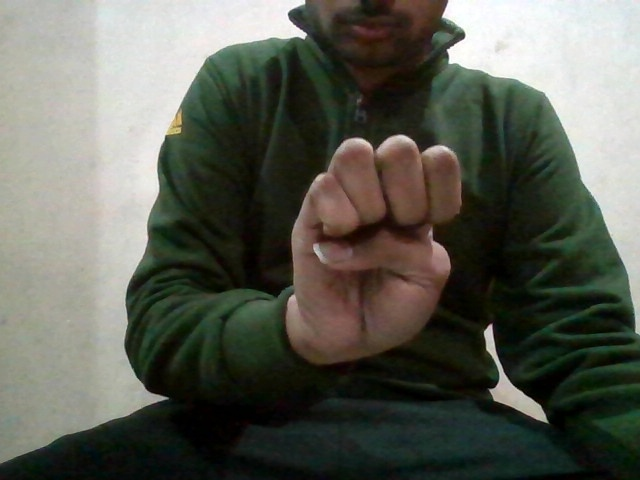E: (290, 130, 467, 359)
